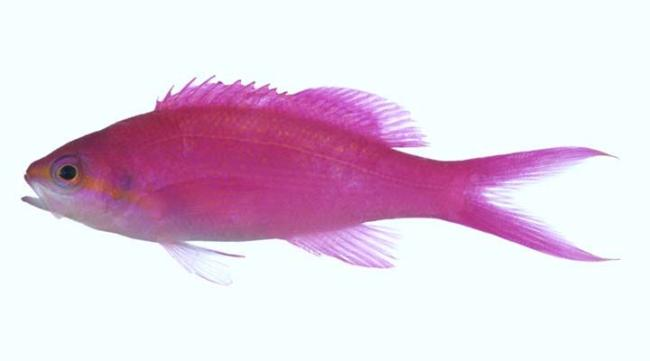fish: (21, 75, 621, 285)
